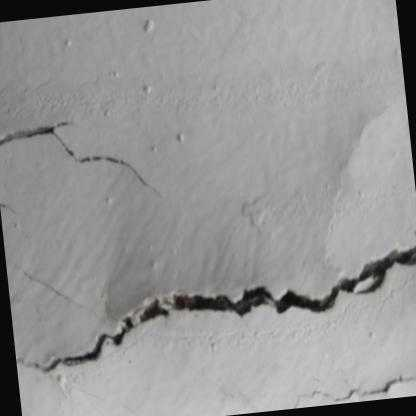crack: (37, 241, 416, 379)
